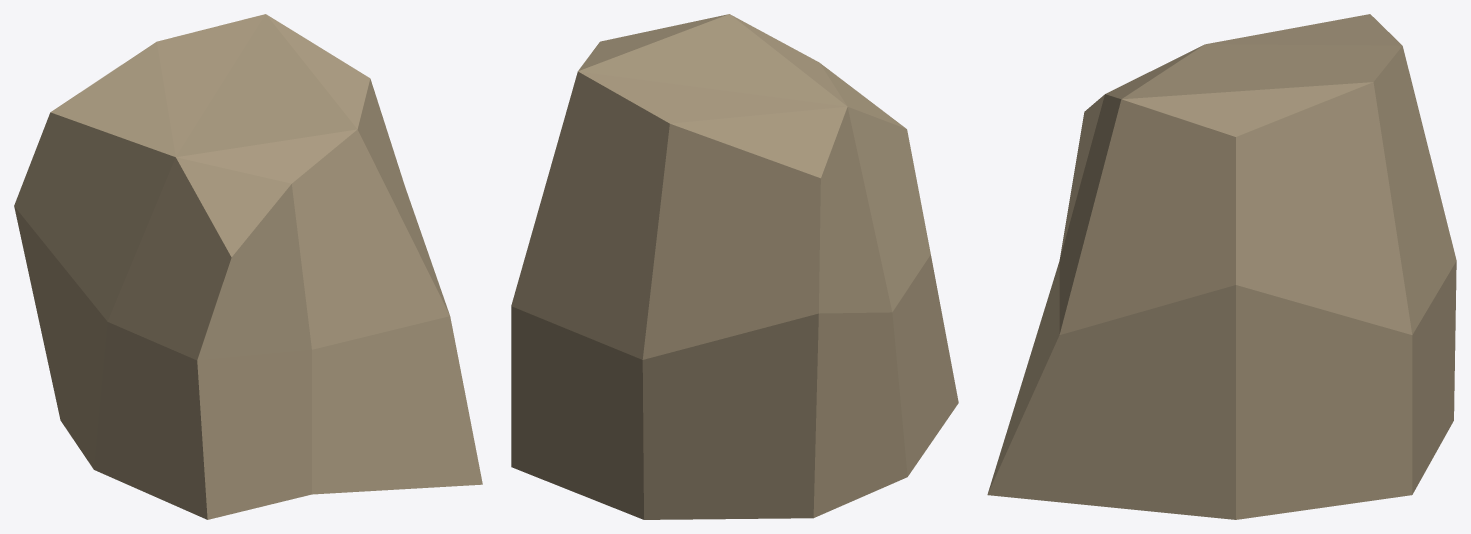
File: FlatRock-A06.fbx
3 views of the same model, side by side, from view 1: azimuth 30°, elevation 25°; view 2: azimuth 150°, elevation 25°; view 3: azimuth 270°, elevation 25° (orthographic). The views are drawn at different scales.
Visible parts, largest first — view 1: FlatRock-A06; view 2: FlatRock-A06; view 3: FlatRock-A06.
Part boxes in pixels (box(x1,y1,x2,y2)): FlatRock-A06: box(14, 14, 482, 519); FlatRock-A06: box(511, 14, 958, 519); FlatRock-A06: box(987, 14, 1456, 519).
Size of the model in its own units: 233 by 244 by 266.
